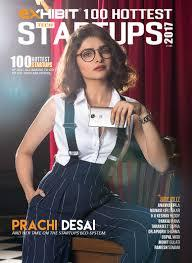Printing industry: (1, 2, 192, 263)
